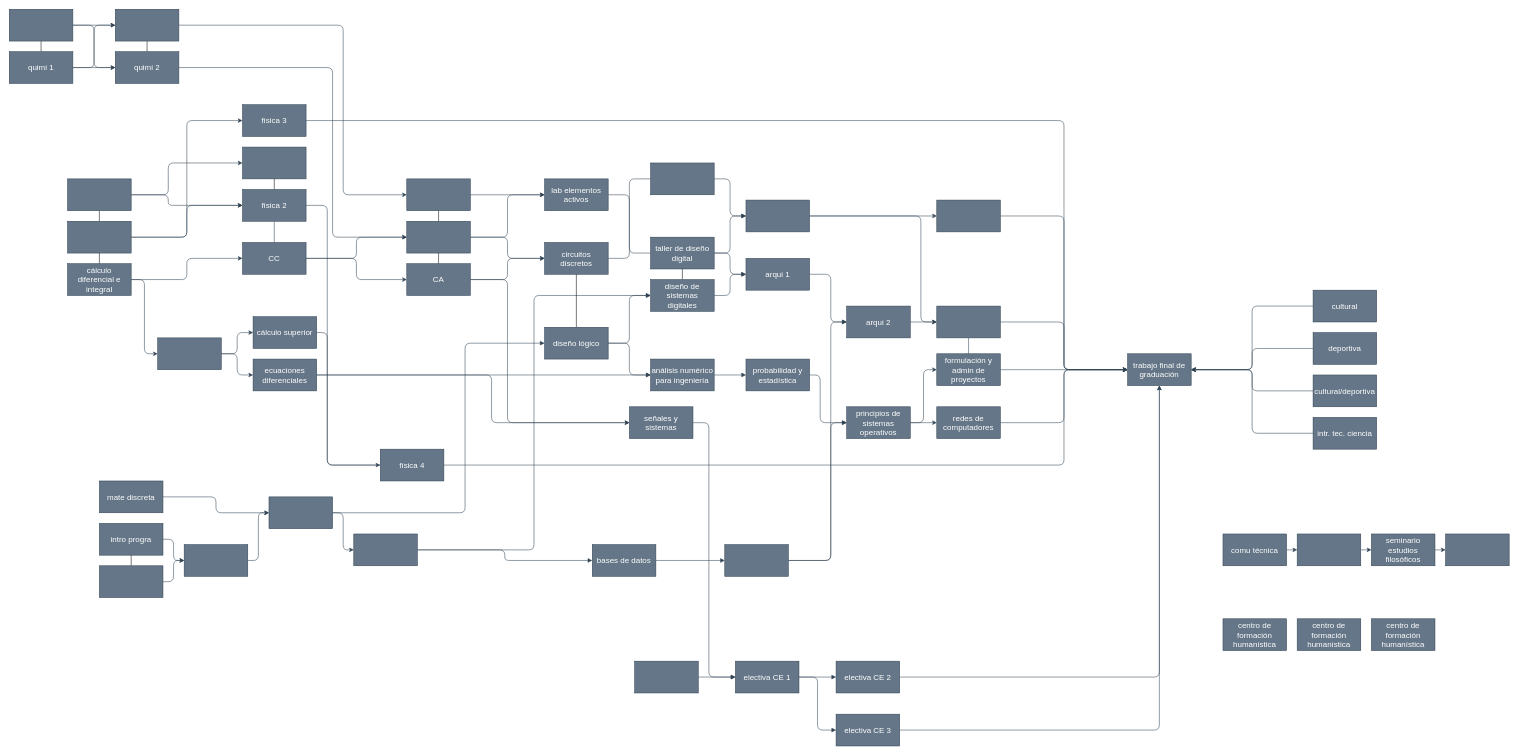
Image size: 1518x755. Some labels were removed from this diagram. The shapes that lost their labels are listed below. From the top down, each one's centre as x and y in pixels, then its label:
the point at 41,25: lab quimi 1
the point at 147,25: lab quimi 2
the point at 274,163: lab física 2
the point at 682,178: circuitos integrados lineales
the point at 99,194: lab física 1
the point at 438,194: lab circuitos
the point at 777,216: taller de diseño analógico
the point at 968,216: desarrollo de emprendedores
the point at 99,237: física 1
the point at 438,237: elementos activos
the point at 968,322: proyecto de diseño
the point at 189,353: álgebra lineal
the point at 300,512: algoritmos y estructuras 2
the point at 216,560: algoritmos y estructuras 1
the point at 385,549: lenguajes, compiladores e intérpretes
the point at 756,560: especificación y diseño de software
the point at 1329,549: ambiente humano
the point at 1477,549: seminario estudios CR
the point at 131,581: taller progra
the point at 666,677: ingles especializado
